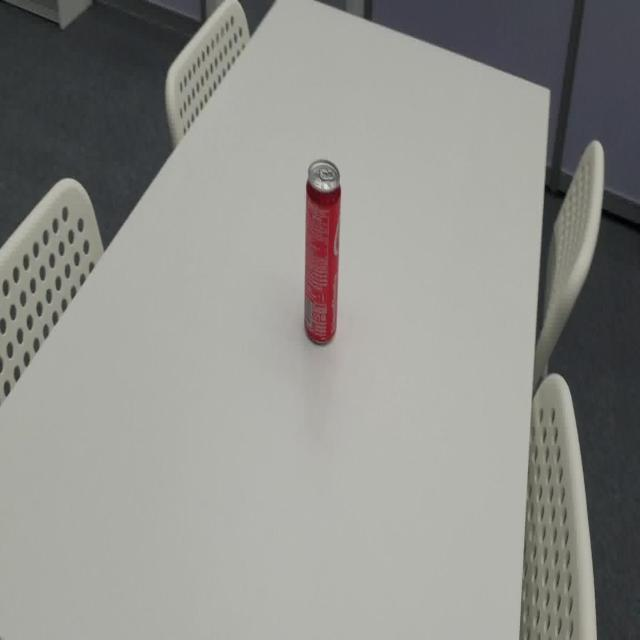coca-cola: (302, 154, 342, 352)
